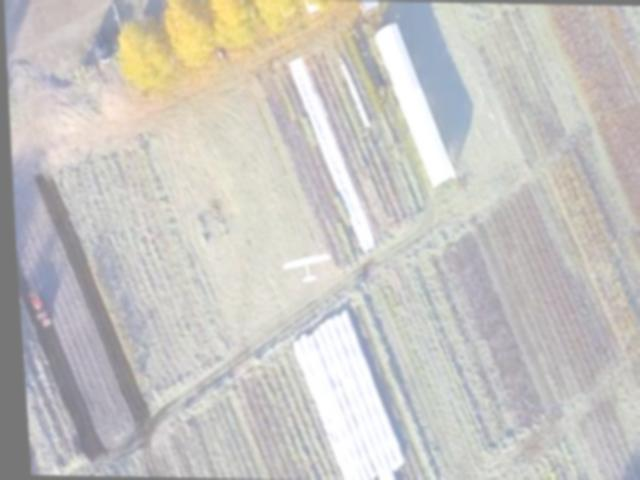uav: (273, 244, 336, 285)
